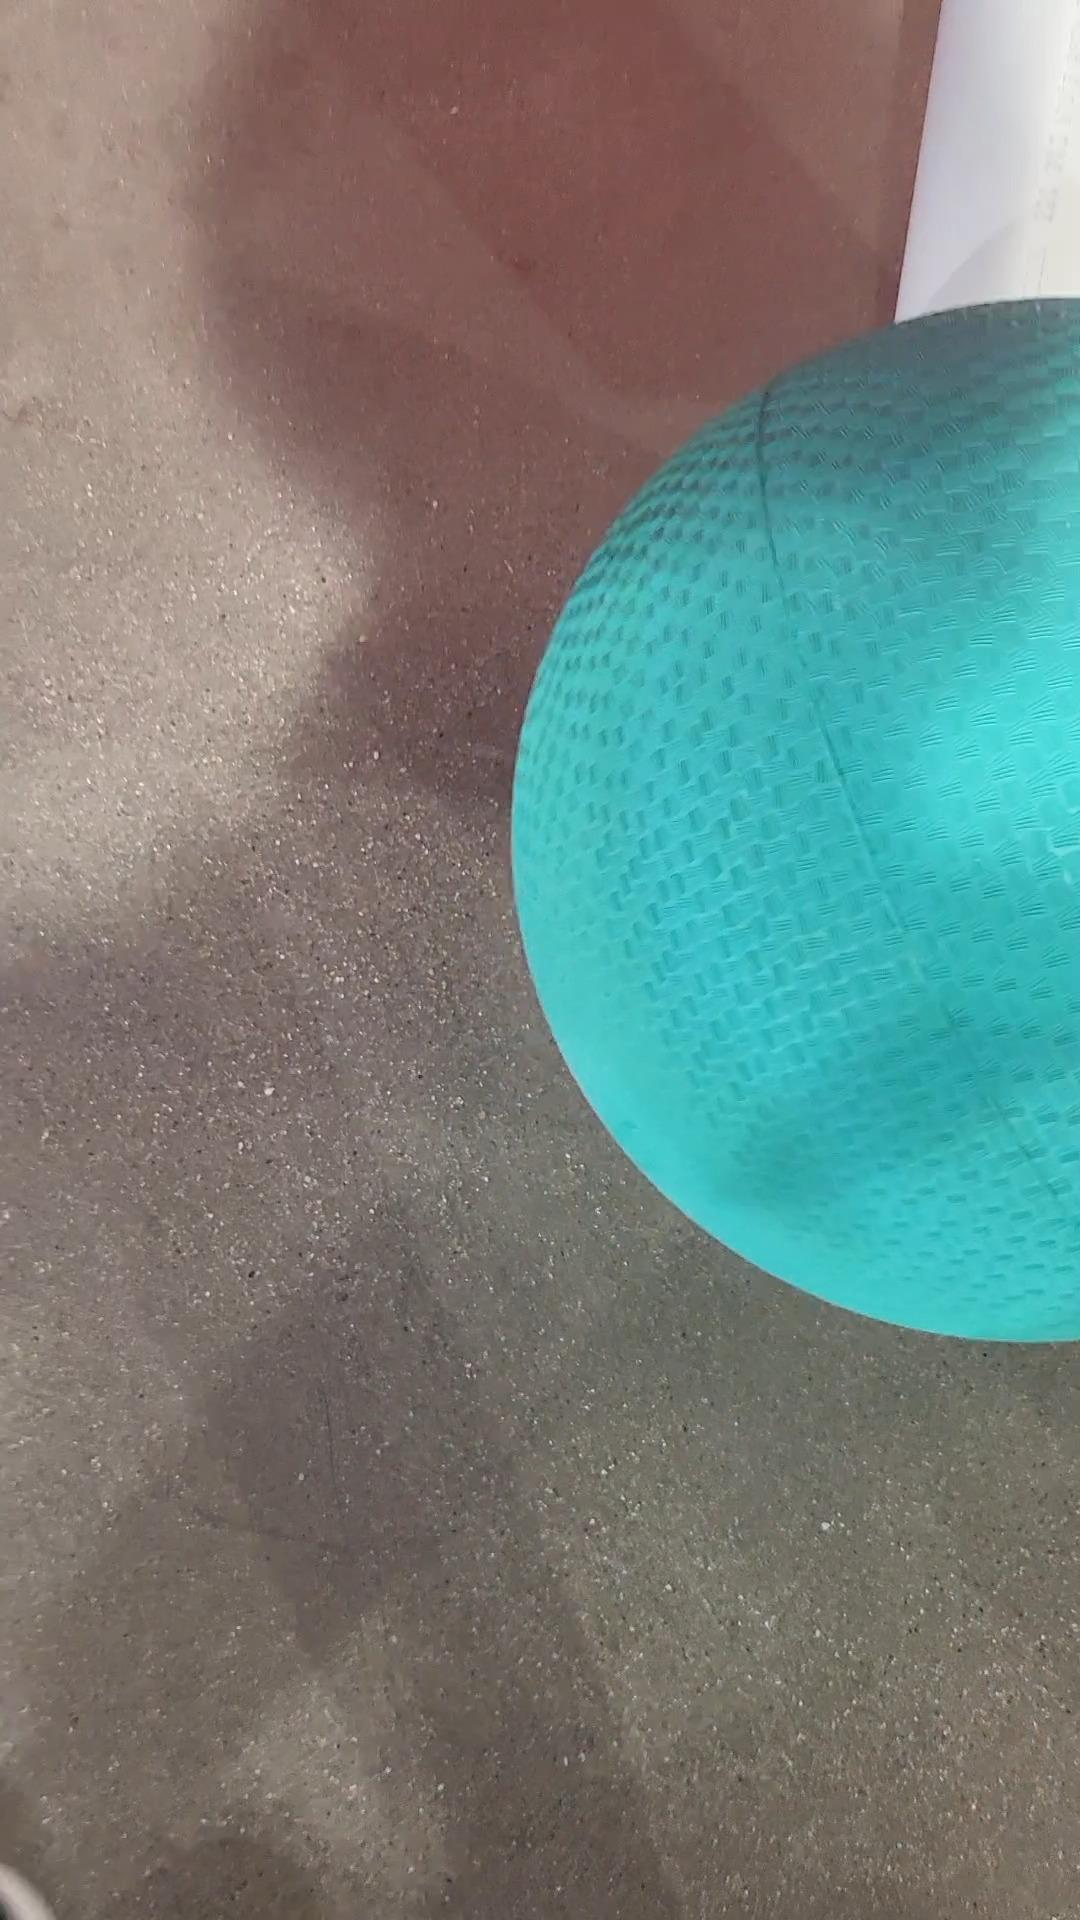algae: (502, 291, 1079, 1345)
